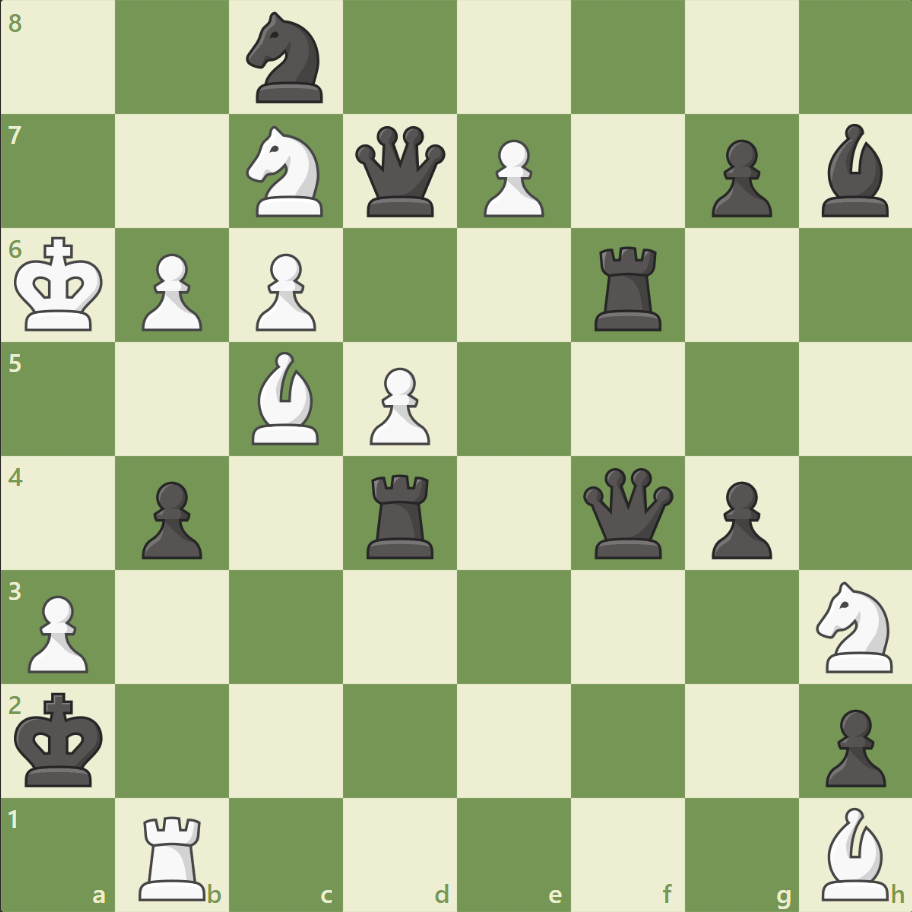B: (812, 801, 896, 904), (244, 347, 328, 449)
K: (11, 231, 111, 339)
N: (238, 121, 335, 223), (806, 575, 903, 677)
P: (474, 132, 549, 223), (133, 246, 208, 337), (247, 246, 322, 337), (20, 586, 95, 677), (361, 359, 435, 450)
R: (133, 806, 215, 904)
b: (812, 120, 896, 222)
k: (11, 685, 111, 793)
n: (238, 7, 335, 110)
p: (701, 132, 776, 223), (133, 473, 208, 564), (701, 473, 776, 564), (815, 700, 889, 791)
q: (351, 122, 450, 222), (578, 463, 677, 562)
r: (587, 239, 670, 336), (360, 466, 442, 563)
